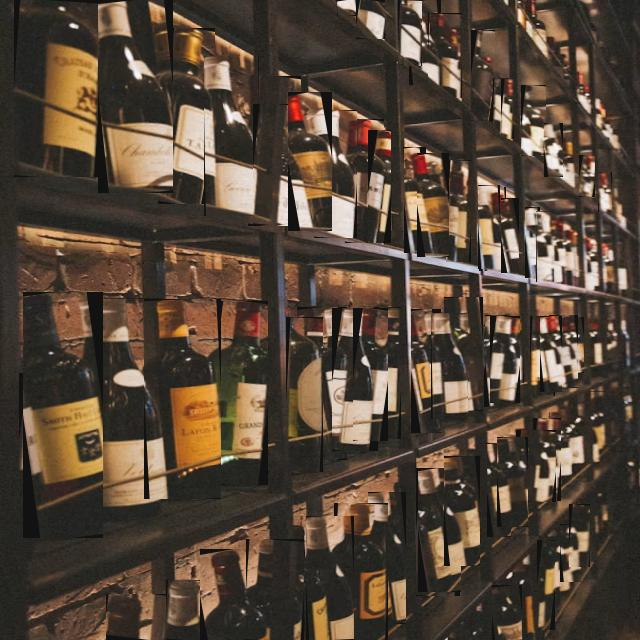Bottle: (24, 293, 103, 497), (92, 298, 162, 519), (14, 0, 100, 177), (144, 299, 220, 499), (99, 0, 172, 193), (212, 301, 267, 484), (158, 28, 215, 204), (204, 57, 259, 215), (298, 307, 347, 460), (334, 503, 388, 639), (333, 308, 378, 450), (201, 549, 268, 639), (288, 92, 331, 231), (286, 317, 323, 472), (307, 517, 354, 639), (314, 111, 357, 237), (419, 468, 460, 592), (368, 493, 406, 624), (345, 119, 383, 243), (431, 314, 468, 419), (444, 456, 479, 566), (294, 526, 326, 639), (412, 310, 441, 433), (416, 469, 444, 596), (375, 308, 401, 438), (354, 308, 386, 413), (418, 154, 449, 257), (428, 13, 461, 98), (517, 430, 555, 502), (247, 540, 276, 634), (279, 104, 301, 225), (490, 316, 520, 403), (279, 103, 300, 225), (498, 438, 527, 526), (446, 161, 471, 261), (444, 298, 477, 371), (167, 580, 205, 639), (479, 188, 505, 270), (405, 147, 425, 253), (488, 444, 510, 537), (472, 30, 494, 121), (550, 316, 578, 387), (534, 419, 561, 492), (20, 374, 35, 499), (368, 131, 391, 211), (478, 185, 500, 268), (486, 316, 506, 407), (531, 317, 554, 395), (521, 86, 546, 155), (540, 317, 562, 392), (398, 0, 422, 66), (493, 585, 522, 639), (550, 412, 571, 484), (538, 541, 555, 629), (484, 325, 502, 407), (107, 598, 141, 639), (420, 20, 441, 84), (536, 212, 554, 281), (505, 316, 523, 382), (502, 199, 518, 273), (560, 525, 581, 581), (570, 505, 589, 566), (588, 397, 605, 462), (357, 0, 385, 39), (564, 318, 583, 372), (544, 124, 563, 177), (525, 207, 539, 278), (493, 78, 508, 135), (502, 79, 514, 139), (580, 156, 595, 197), (599, 173, 612, 211), (338, 0, 357, 15)
